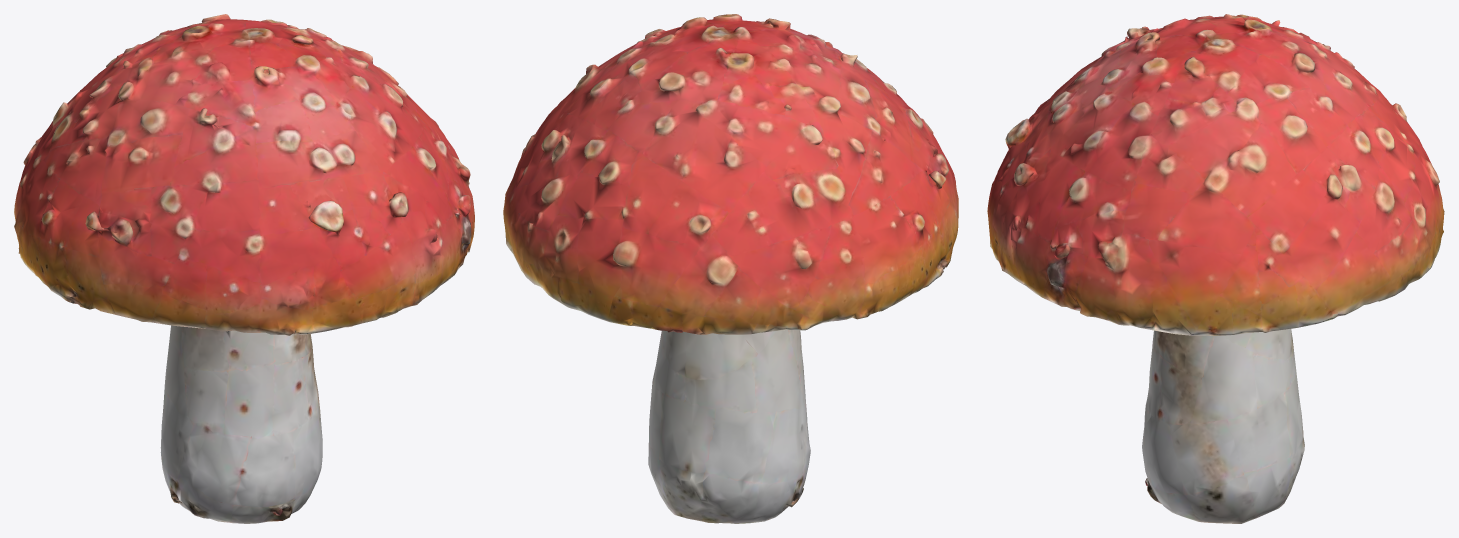
Rendered from mushroom2.glb.
The picture shows the model from 3 angles, left to right: view 1: azimuth 30°, elevation 25°; view 2: azimuth 150°, elevation 25°; view 3: azimuth 270°, elevation 25°; orthographic projection.
Bounding box in the file's own units: 1.75 × 1.99 × 1.76.
Materials: 1 (1 with a texture image).
